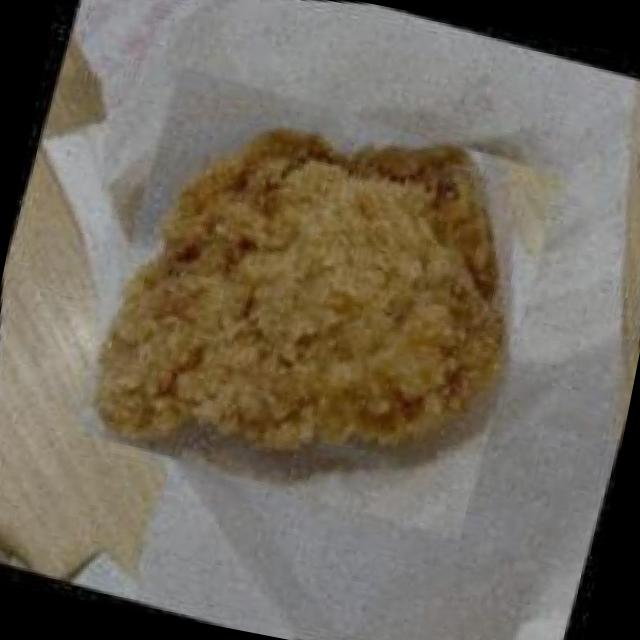fried_chicken: (14, 5, 622, 602)
